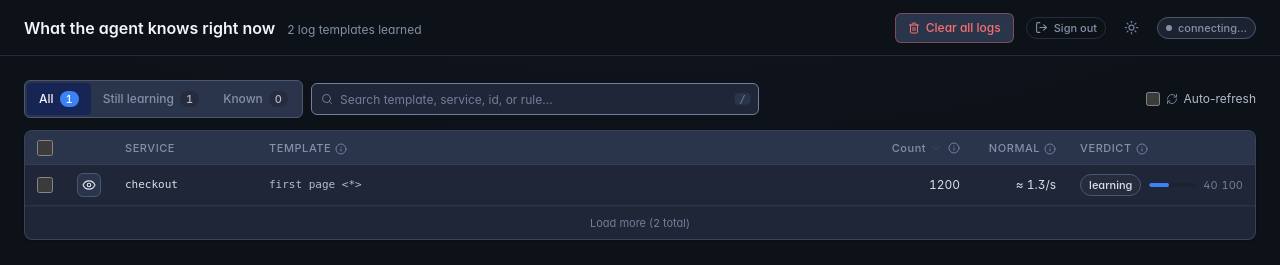
PatternsPage — server-side paging › loads the next page when Load more is clicked
Expected: the text "first page <*>" is shown, 269,178 -> 362,191
Click the button "Load more (2 total)" at [640, 223], box 590,215 -> 690,231
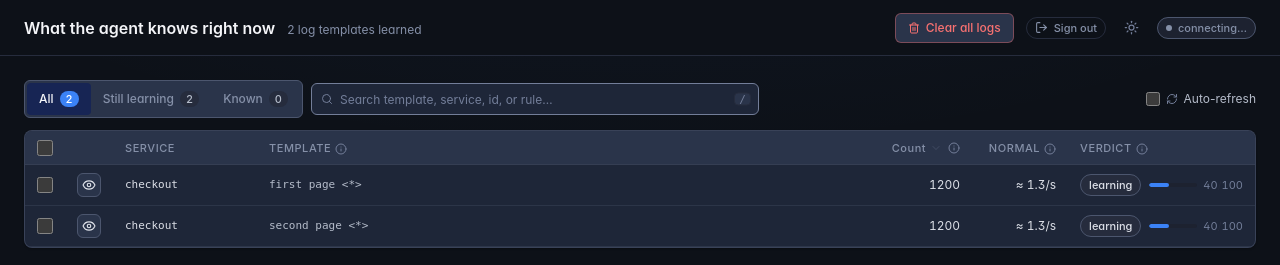
Result: the text "second page <*>" is shown at 269,219 -> 368,232
